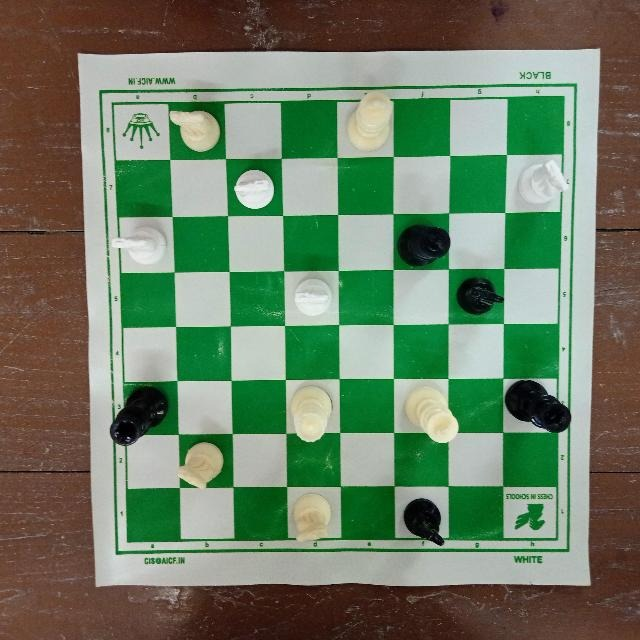black-king: (106, 380, 173, 452), (503, 372, 576, 435), (397, 216, 453, 268)
black-knight: (404, 493, 447, 547), (453, 271, 505, 314)
white-king: (402, 382, 461, 448), (344, 90, 400, 156)
white-knight: (287, 485, 339, 547), (175, 436, 231, 491), (164, 104, 223, 154), (106, 221, 170, 267), (514, 157, 572, 207), (227, 165, 278, 214), (287, 275, 339, 322)
white-queen: (285, 380, 339, 448)
